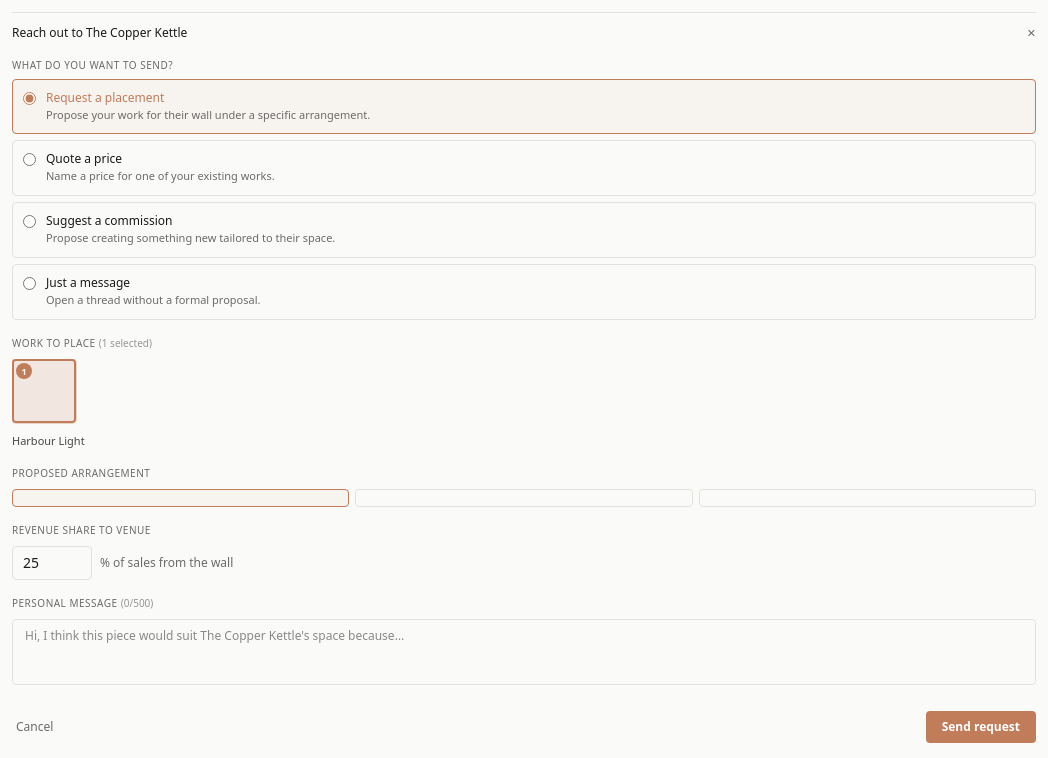
Test case: SpacesPlacementRequestForm — 429 error copy › still surfaces an `error`-only body, like the pending-application gate
Step 1. Click the button "Send request" → [981, 726], box [926,710,1036,742]
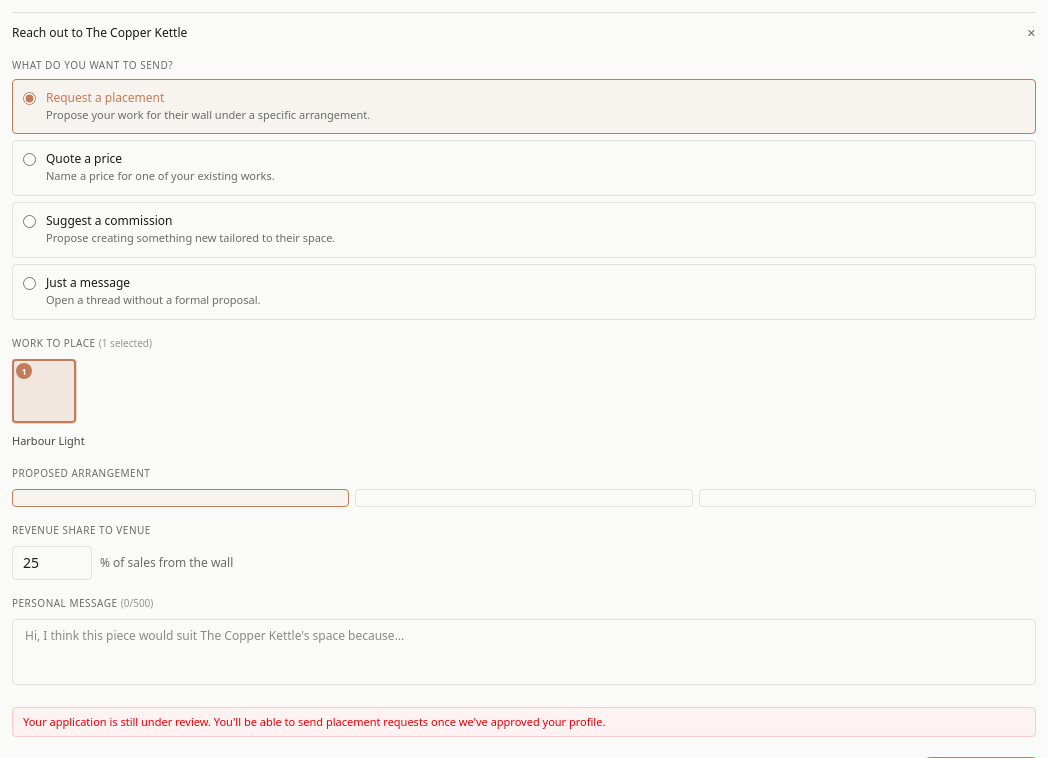
Expected: the text "Your application is still under review. You'll be able to send placement requests once we've approved your profile." is shown, [23,714,605,728]
